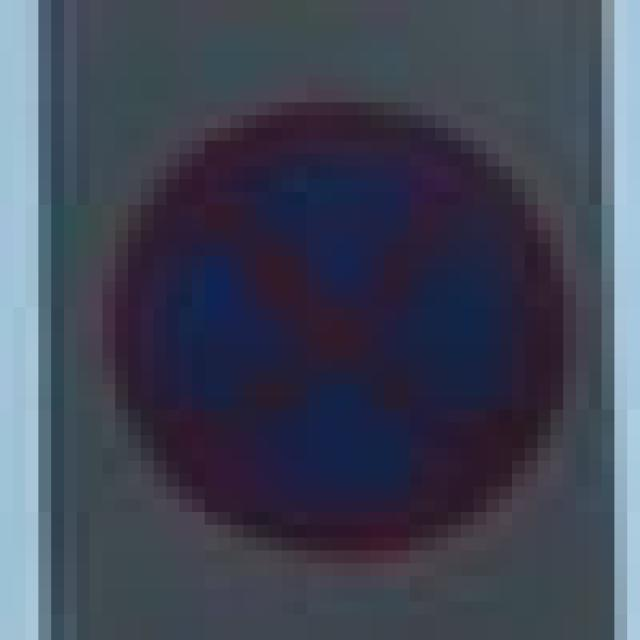no_parking: (90, 90, 563, 538)
